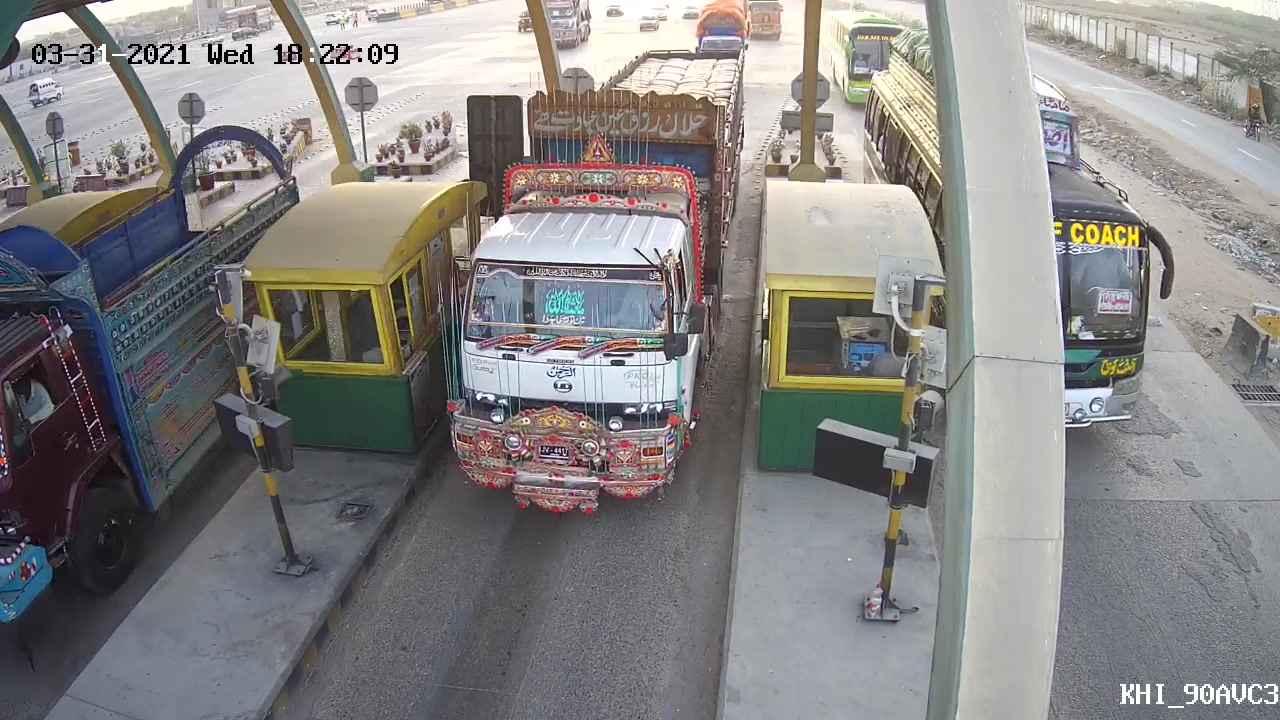F5: (432, 68, 752, 515)
